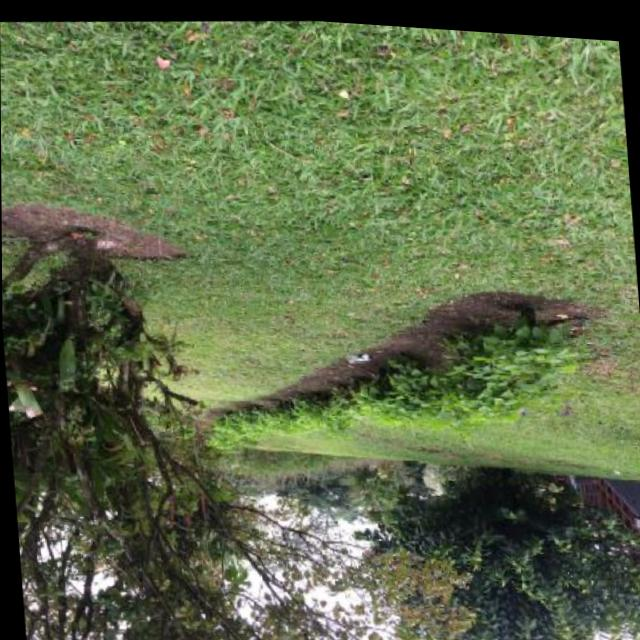plastic: (346, 352, 373, 365)
